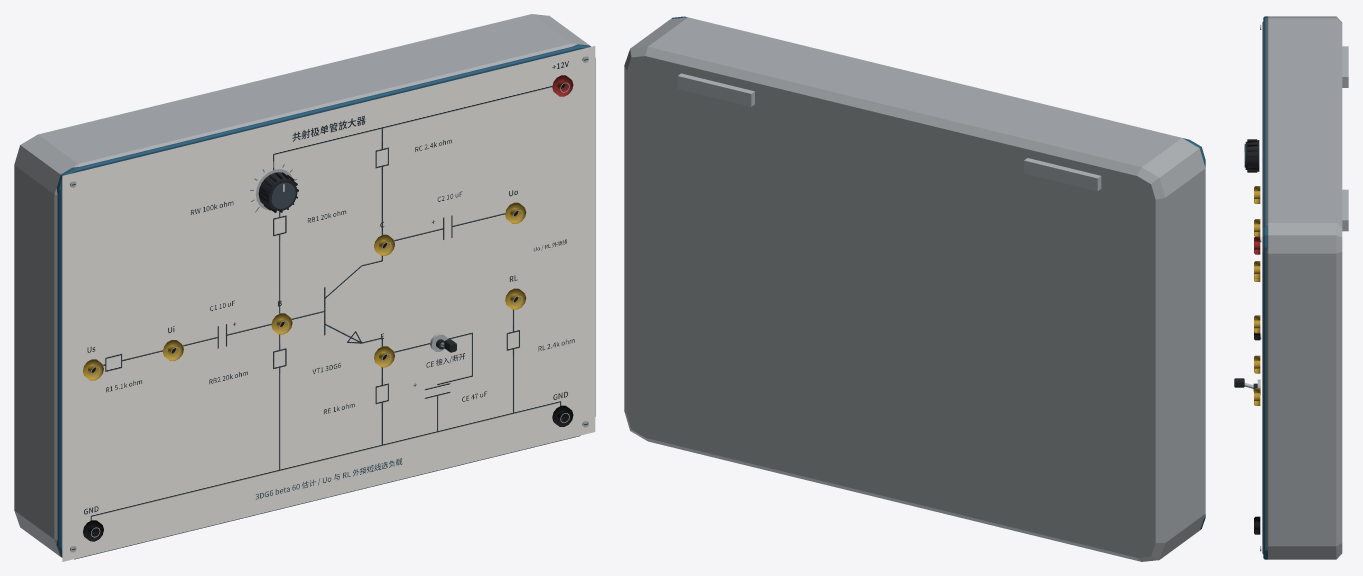
File: module.glb
The picture shows the model from 3 angles, left to right: view 1: azimuth 30°, elevation 25°; view 2: azimuth 150°, elevation 25°; view 3: azimuth 270°, elevation 25°; orthographic projection. The views are drawn at different scales.
Visible parts, largest first — view 1: PANEL_silkscreen, STATIC_paint, MOVING_RW_paint, STATIC_metal; view 2: STATIC_paint, STATIC_metal; view 3: STATIC_paint, STATIC_metal, MOVING_RW_paint, MOVING_KCE_paint.
Part boxes in pixels (box(x1,y1,x2,y2)): PANEL_silkscreen: box(62, 46, 595, 561); STATIC_paint: box(14, 14, 595, 559); MOVING_RW_paint: box(258, 172, 298, 212); STATIC_metal: box(70, 56, 588, 552); STATIC_paint: box(624, 16, 1205, 561); STATIC_metal: box(677, 73, 1101, 191); STATIC_paint: box(1254, 16, 1342, 559); STATIC_metal: box(1257, 24, 1348, 551); MOVING_RW_paint: box(1244, 139, 1259, 172); MOVING_KCE_paint: box(1234, 378, 1257, 391).
Bounding box in the file's own units: 0.264 × 0.184 × 0.0568.
5 materials, 1 textured.
